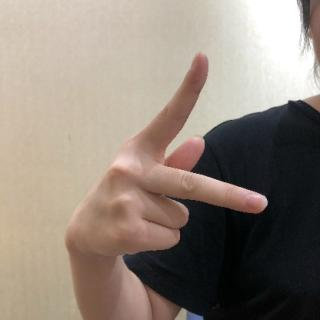DHAA: (62, 50, 276, 282)
